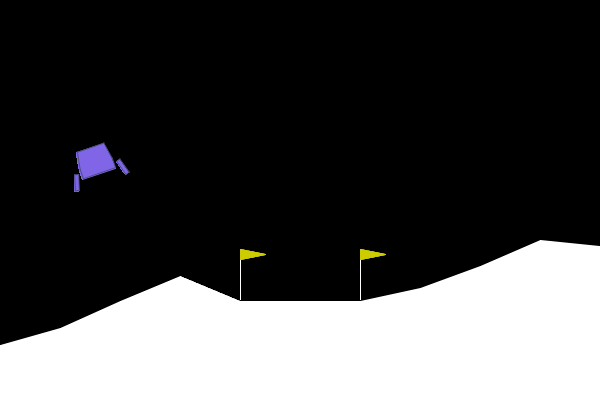lander: (61, 136, 131, 194)
